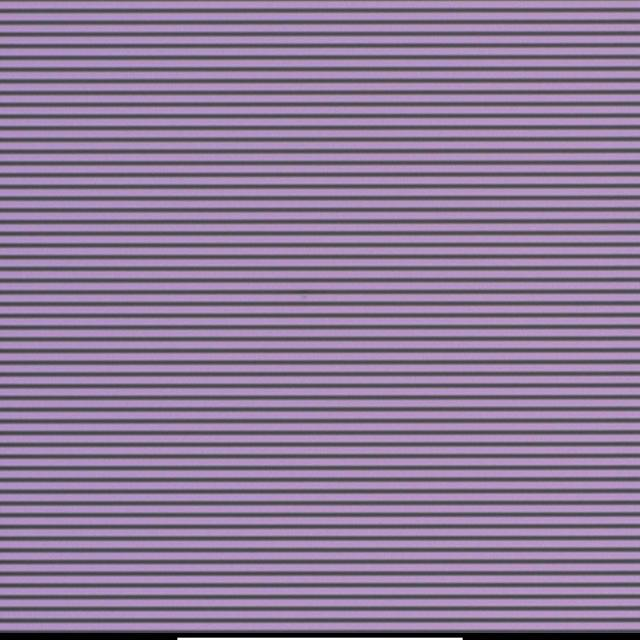03_intrusion: (300, 290, 308, 297)
